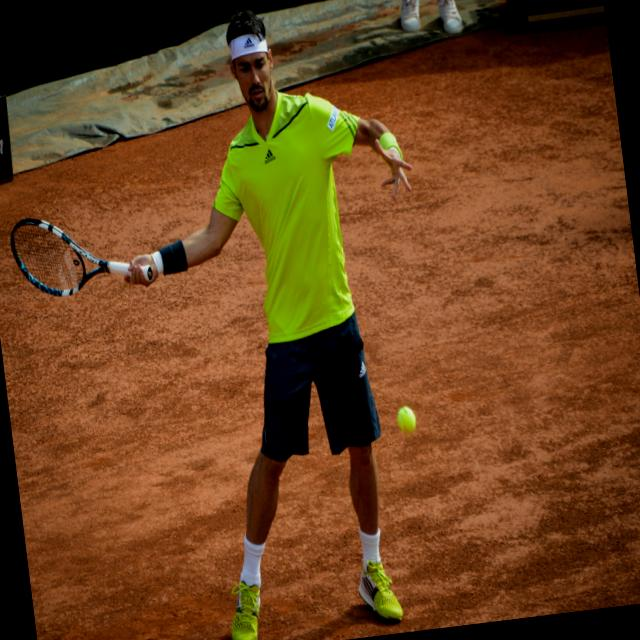Tennis Ball: (395, 404, 417, 433)
